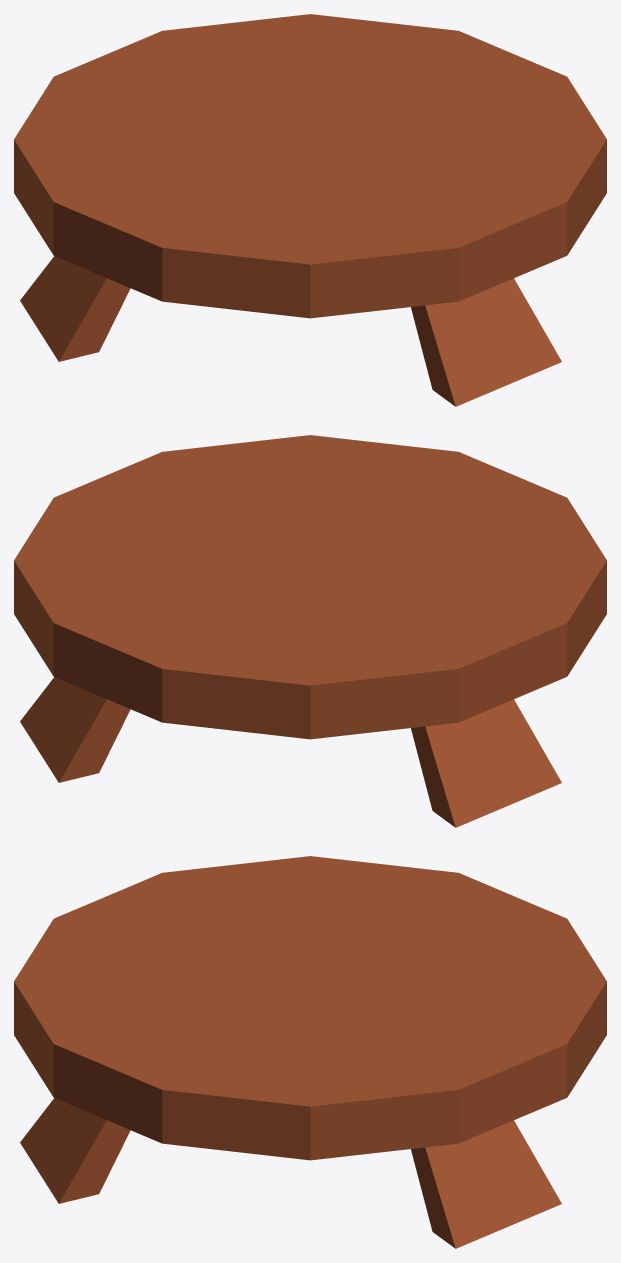
The model's file is Prop_Furniture_Fantasy_Dungeon_Table_Wooden_Small_01.FBX.
The picture shows the model from 3 angles, top to bottom: view 1: azimuth 30°, elevation 25°; view 2: azimuth 150°, elevation 25°; view 3: azimuth 270°, elevation 25°; orthographic projection.
Parts seen in each view (by area): view 1: Prop_Furniture_Fantasy_Dungeon_Table_Wooden_Small_01; view 2: Prop_Furniture_Fantasy_Dungeon_Table_Wooden_Small_01; view 3: Prop_Furniture_Fantasy_Dungeon_Table_Wooden_Small_01.
Part boxes in pixels (x1,y1,x2,y2): Prop_Furniture_Fantasy_Dungeon_Table_Wooden_Small_01: (14,14,606,406); Prop_Furniture_Fantasy_Dungeon_Table_Wooden_Small_01: (14,435,606,827); Prop_Furniture_Fantasy_Dungeon_Table_Wooden_Small_01: (14,856,606,1248).
Size of the model in its own units: 677 by 203 by 677.
